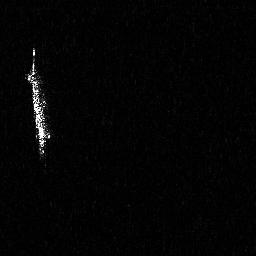ship: (24, 46, 53, 170)
